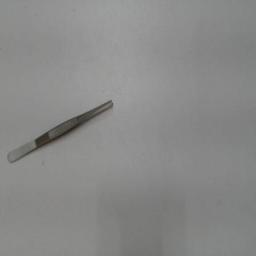Gillies Toothed Dissector: (0, 90, 124, 170)
